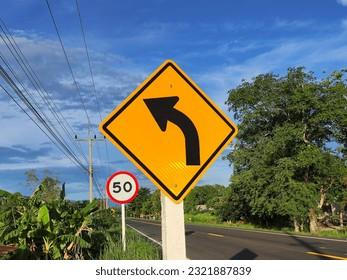Left hand curve: (93, 47, 264, 204)
